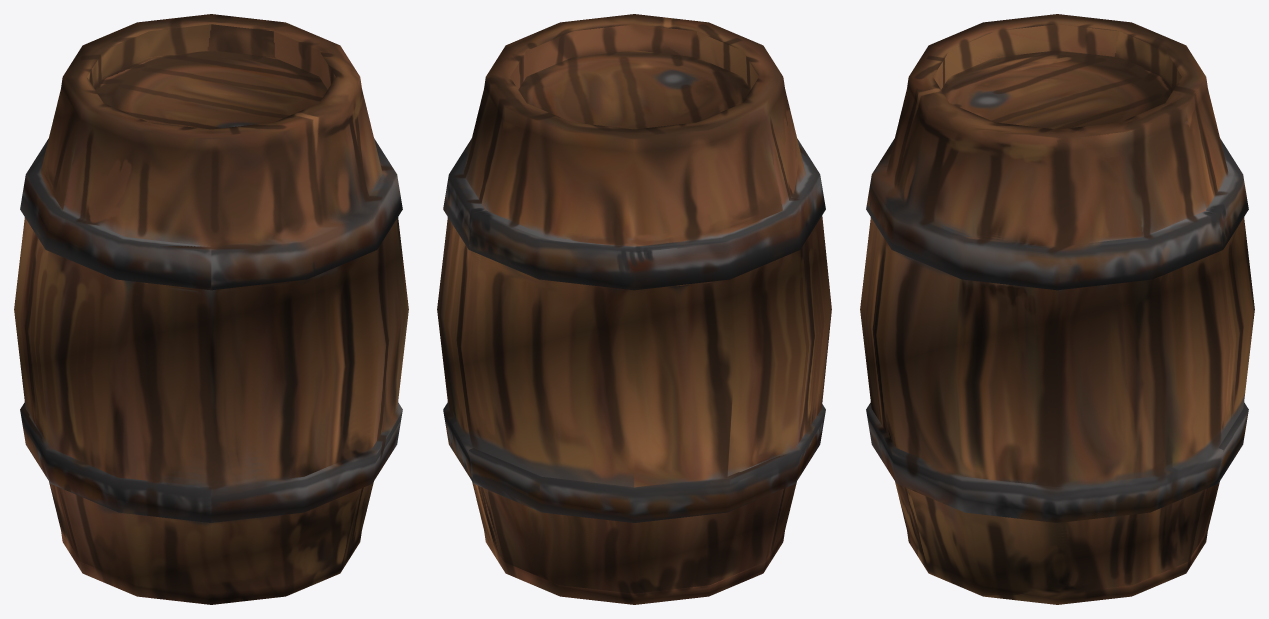
Rendered from SM_Barrel_01.fbx.
The picture shows the model from 3 angles, left to right: view 1: azimuth 30°, elevation 25°; view 2: azimuth 150°, elevation 25°; view 3: azimuth 270°, elevation 25°; orthographic projection.
Visible parts, largest first — view 1: Cylinder; view 2: Cylinder; view 3: Cylinder.
Part boxes in pixels (x1,y1,x2,y2): Cylinder: (14, 14, 408, 604); Cylinder: (437, 14, 831, 604); Cylinder: (860, 14, 1254, 604).
Size of the model in its own units: 72.98 by 94.88 by 72.98.
1 material, 1 textured.
